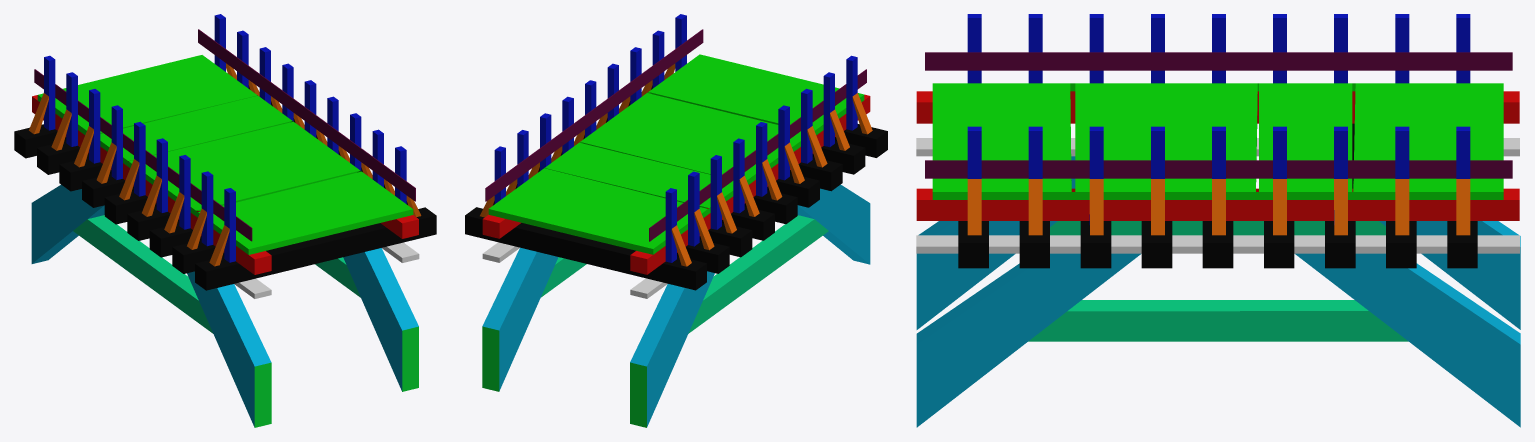
File: Wooden_Bridge.FBX
3 renders of one model, left to right at view 1: azimuth 30°, elevation 25°; view 2: azimuth 150°, elevation 25°; view 3: azimuth 270°, elevation 25°, orthographic. The views are drawn at different scales.
Parts seen in each view (by area): view 1: Bridge; view 2: Bridge; view 3: Bridge.
Part boxes in pixels (left/top/right/bottom): Bridge: left=14, top=14, right=436, bottom=427; Bridge: left=465, top=14, right=887, bottom=427; Bridge: left=916, top=14, right=1520, bottom=427.
Size of the model in its own units: 497 by 458 by 833.
